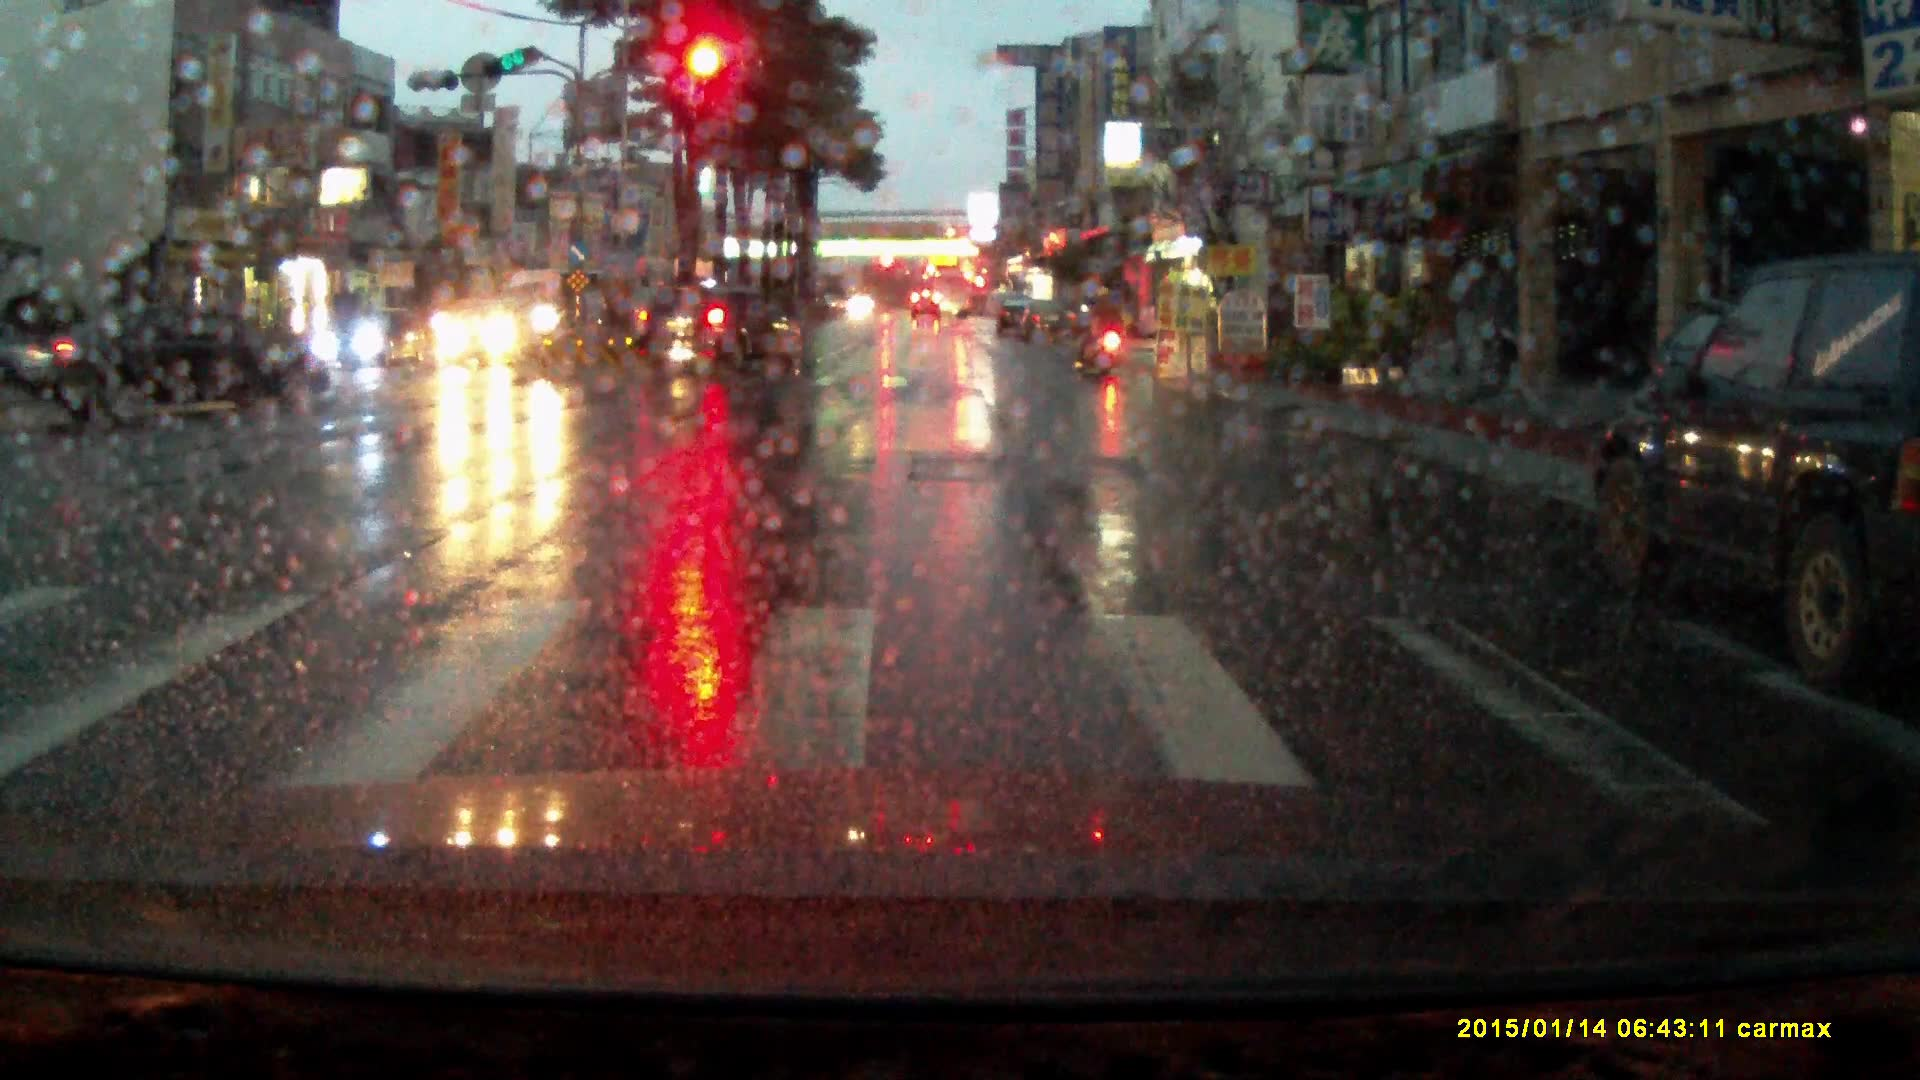rider: (1077, 278, 1130, 381)
vehicle: (1582, 248, 1920, 683), (25, 306, 325, 427), (631, 283, 811, 373), (431, 298, 546, 370), (316, 304, 429, 374), (494, 268, 591, 341), (574, 288, 664, 340), (1017, 300, 1079, 346), (931, 264, 973, 321), (995, 295, 1030, 338), (911, 291, 943, 322)
